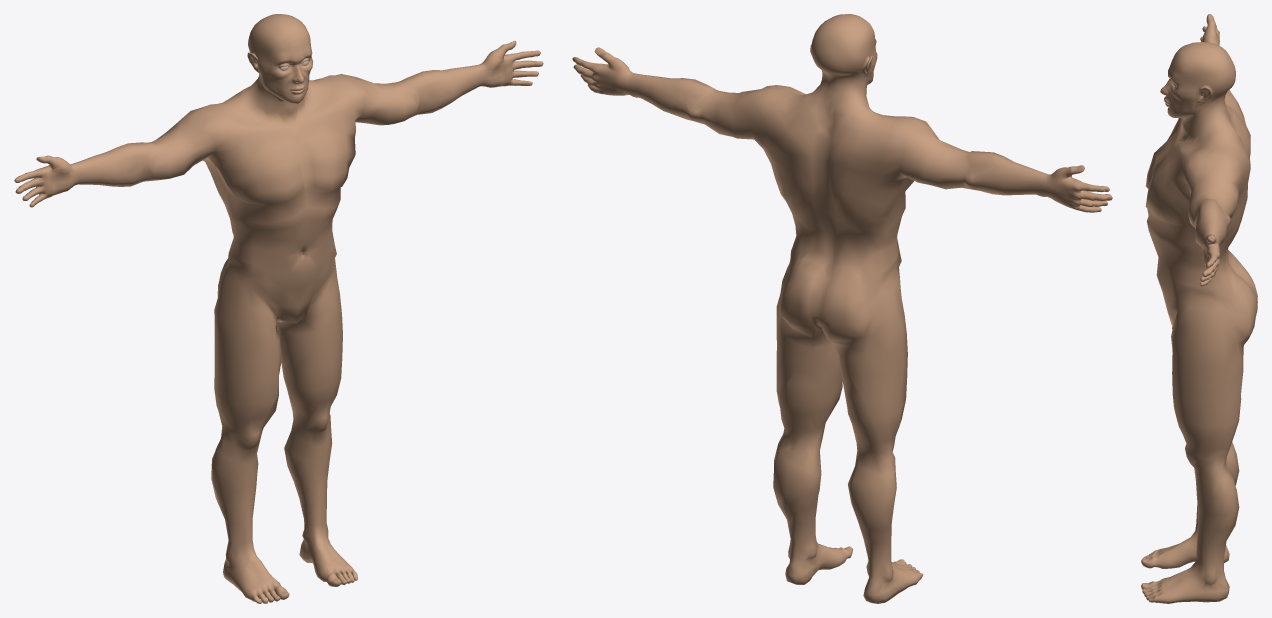
File: Human_Body_Base_Mesh_Male_3.6v.glb
The picture shows the model from 3 angles, left to right: view 1: azimuth 30°, elevation 25°; view 2: azimuth 150°, elevation 25°; view 3: azimuth 270°, elevation 25°; orthographic projection. The views are drawn at different scales.
Parts seen in each view (by area): view 1: Body; view 2: Body; view 3: Body.
Boxes of the visible parts, bbox=[...] form: Body: bbox=[14, 14, 543, 603]; Body: bbox=[572, 14, 1112, 603]; Body: bbox=[1141, 14, 1257, 603].
Bounding box in the file's own units: 1.79 × 1.8 × 0.3558.
